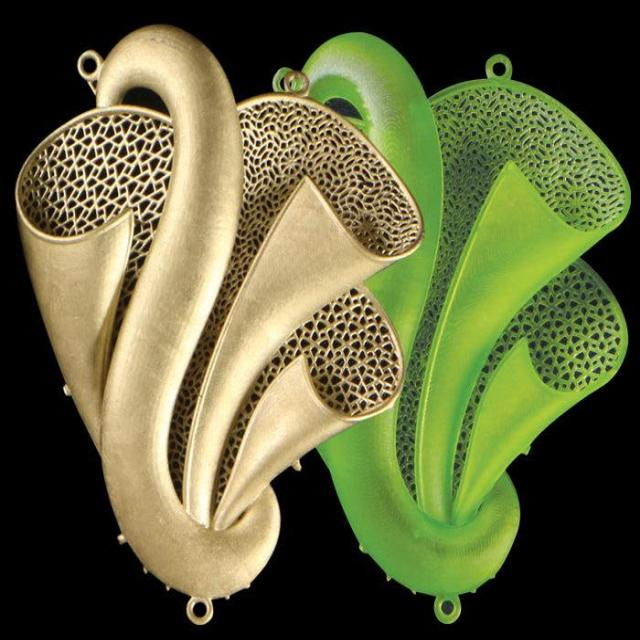Without deffect: (28, 21, 640, 635)
